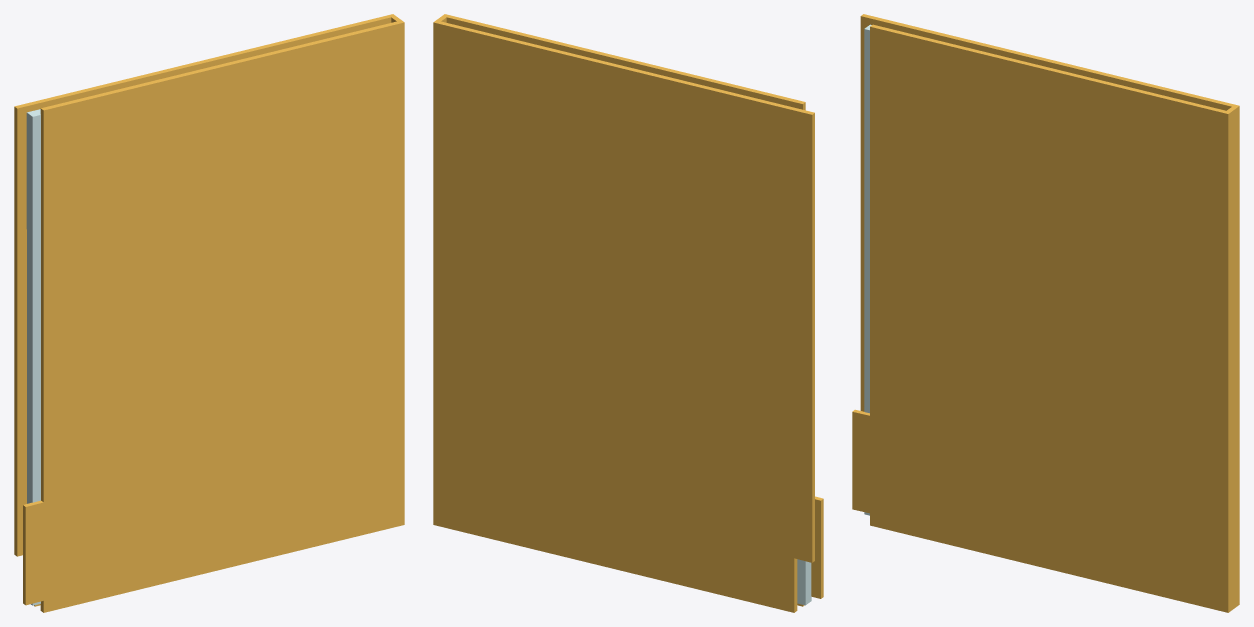
Rendered from FolderFull.fbx.
3 renders of one model, left to right at view 1: azimuth 30°, elevation 25°; view 2: azimuth 150°, elevation 25°; view 3: azimuth 330°, elevation 25°, orthographic.
Parts seen in each view (by area): view 1: FolderEmpty001, FolderPapers; view 2: FolderEmpty001, FolderPapers; view 3: FolderEmpty001, FolderPapers.
Part boxes in pixels (left/top/right/bottom): FolderEmpty001: left=14, top=14, right=404, bottom=612; FolderPapers: left=26, top=109, right=40, bottom=605; FolderEmpty001: left=433, top=14, right=823, bottom=612; FolderPapers: left=797, top=559, right=811, bottom=605; FolderEmpty001: left=852, top=14, right=1239, bottom=612; FolderPapers: left=864, top=24, right=871, bottom=515.
Size of the model in its own units: 20183 by 25576 by 1062.
Materials: 2 (2 with a texture image).
